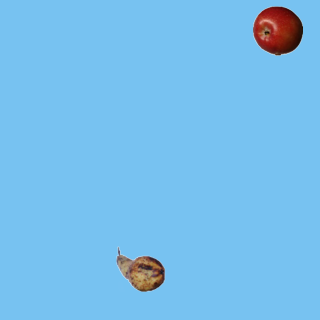Apple Braeburn: (252, 5, 302, 55)
Pear Abate: (115, 244, 165, 294)
